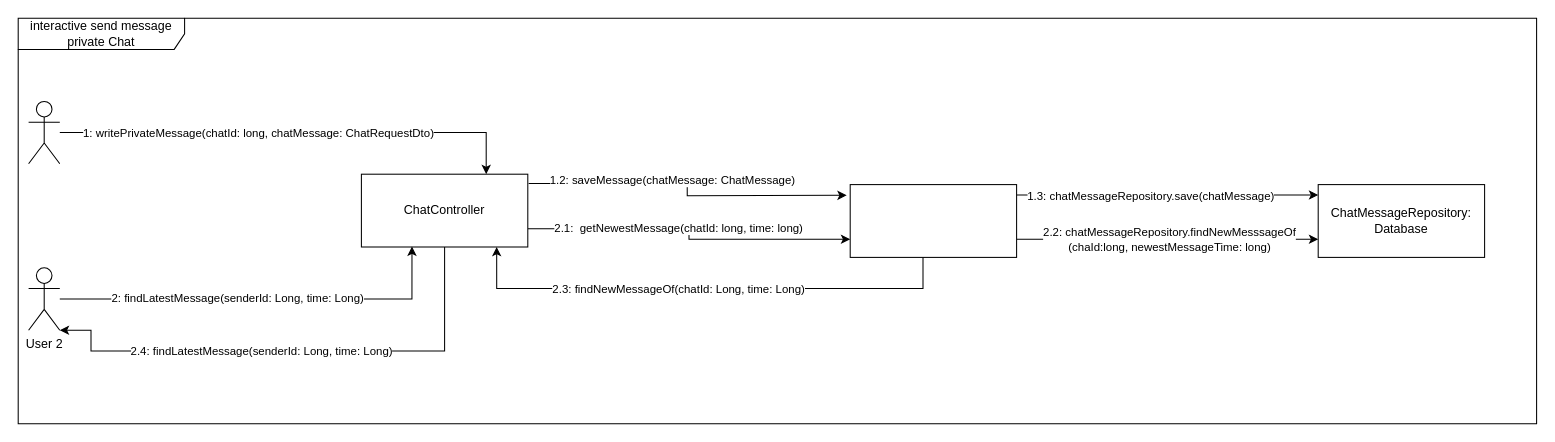
This 1555x442 diagram has some shape labels left out. The shapes that lost their labels are listed below. From the top down, each one's box as (x1, y1, x2, y2) in pixels, then its label:
(28, 100, 60, 164): User 1
(849, 184, 1017, 257): ChatMessageService
